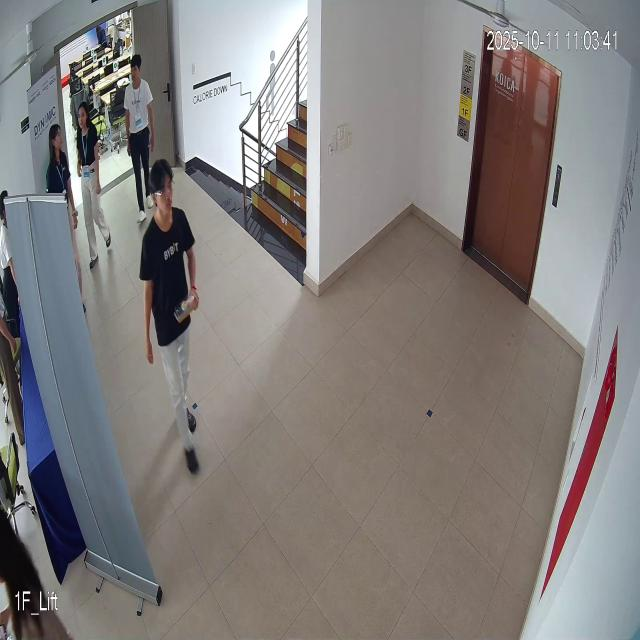face: (146, 157, 182, 214)
